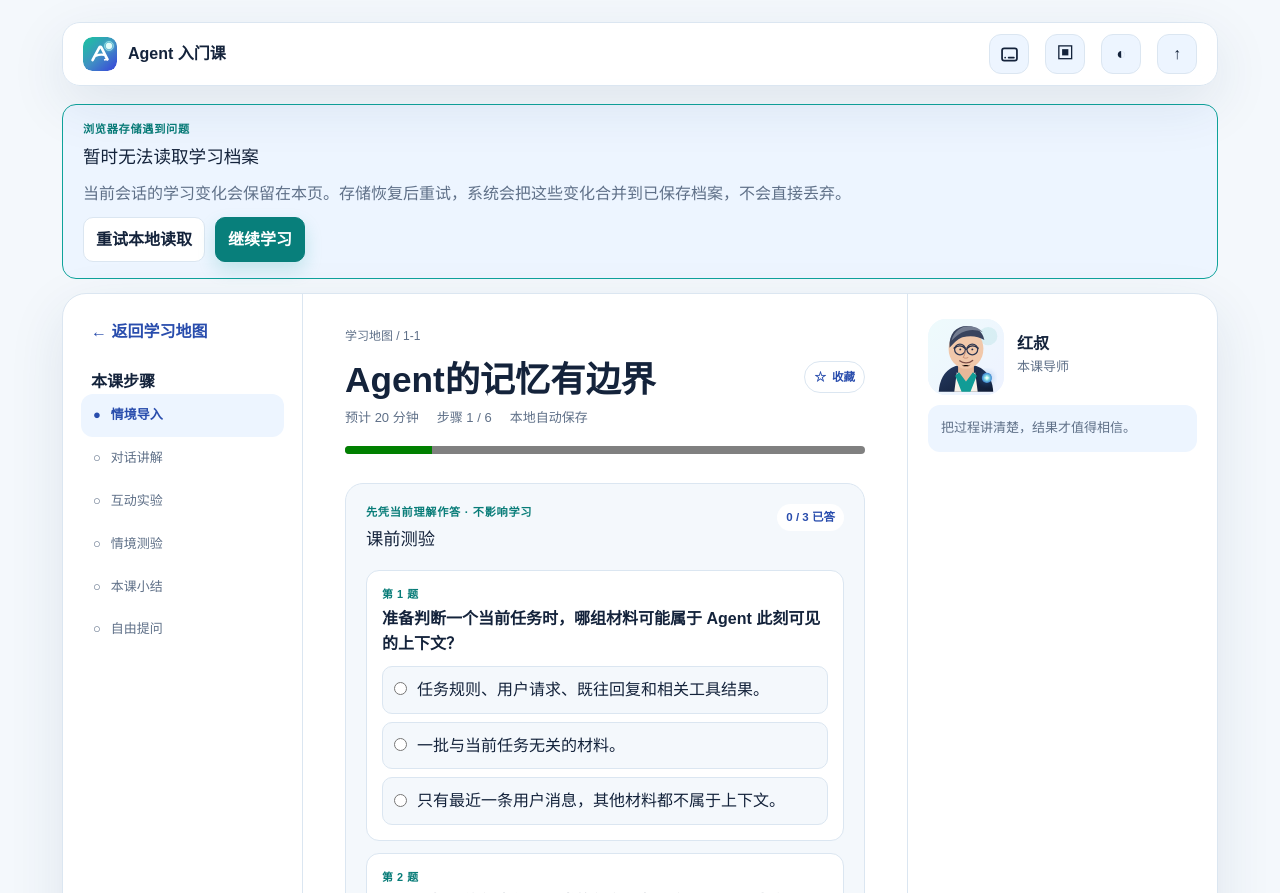
Test: App routes and global learning profile › surfaces an initial global read error and restores the whole profile on retry
Expected: the heading "暂时无法读取学习档案" is shown, [83,147,259,167]
Click the button "重试本地读取": x=144, y=240 [83,217,205,262]
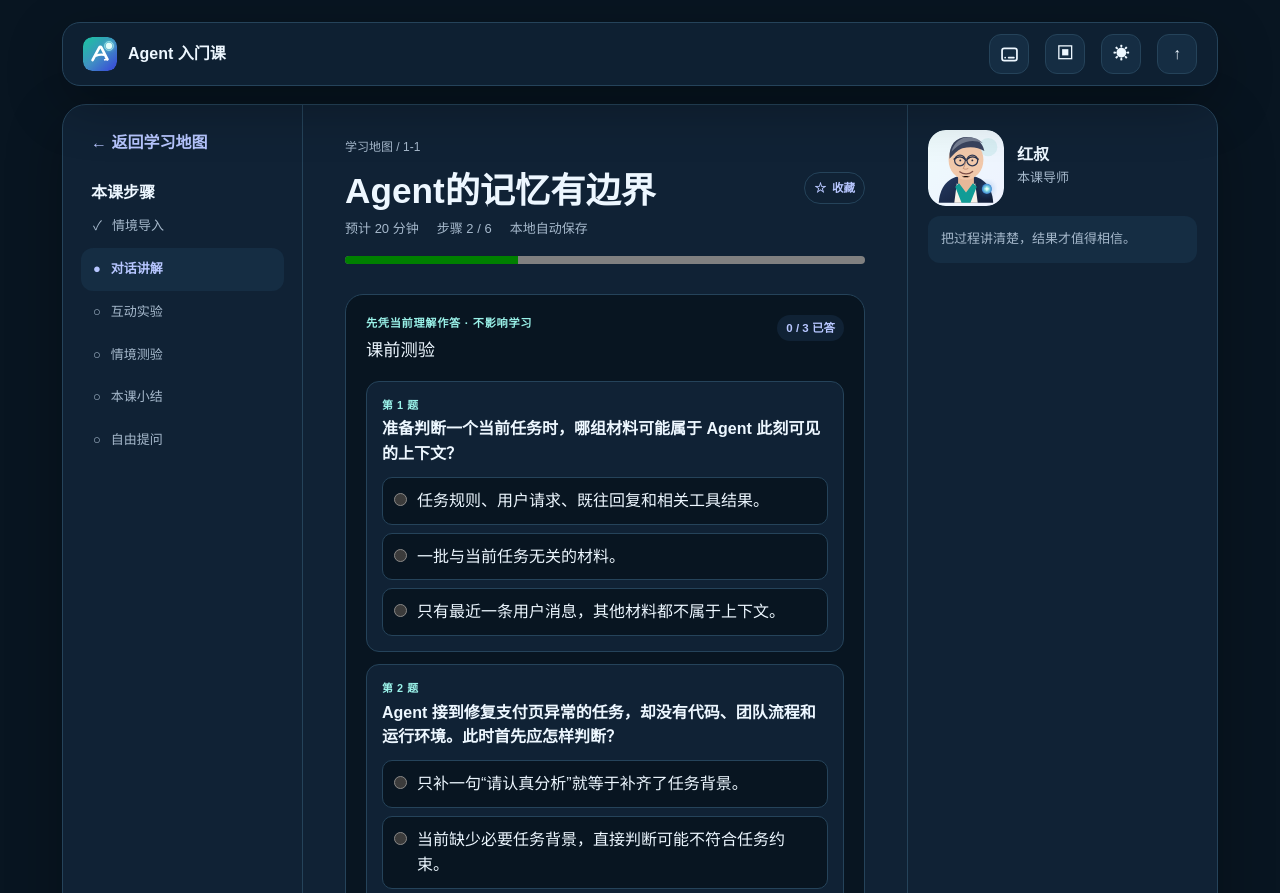
Expected: the heading "暂时无法读取学习档案" is gone
Expected: the text "步骤 2 / 6" is shown, [437,219,492,240]
